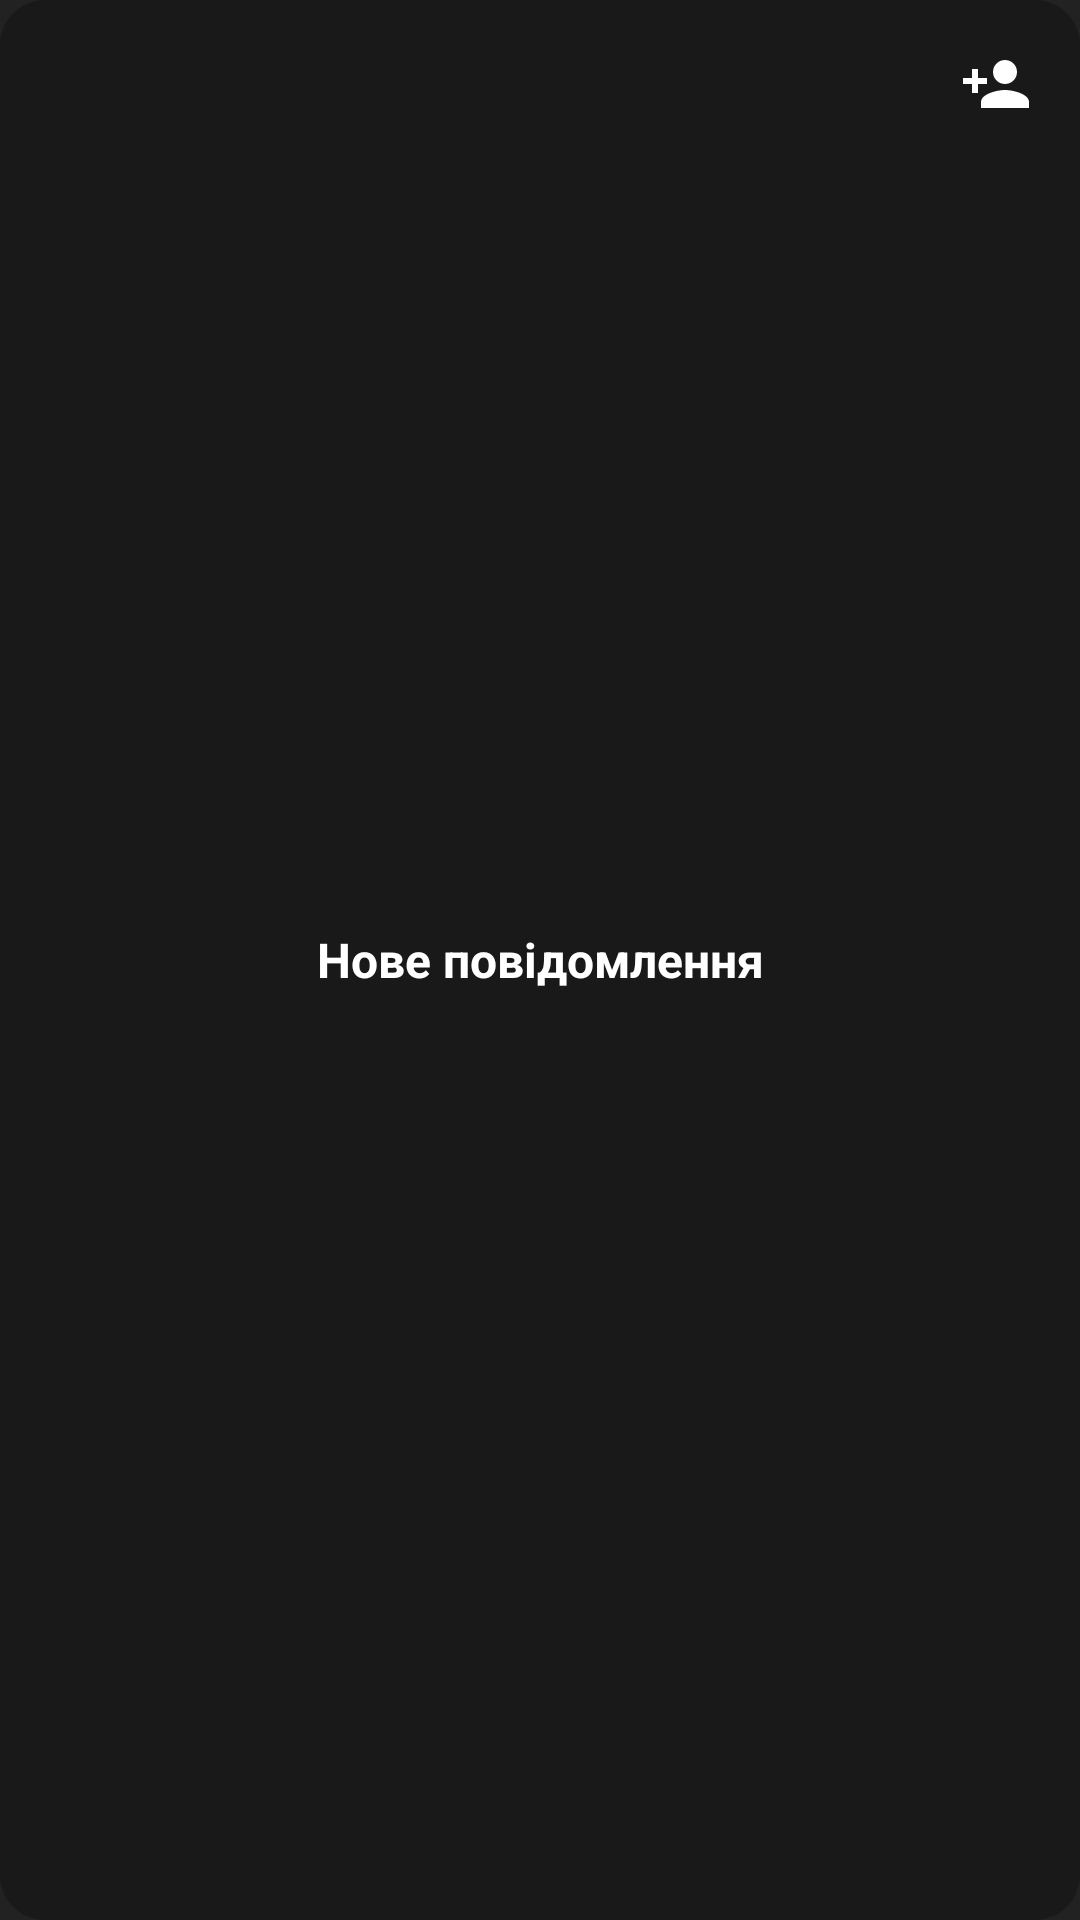

Where icons sit on this 1080*1920 app screen, as (x1, y1, x2, y2):
add friend: (963, 60, 1029, 108)
